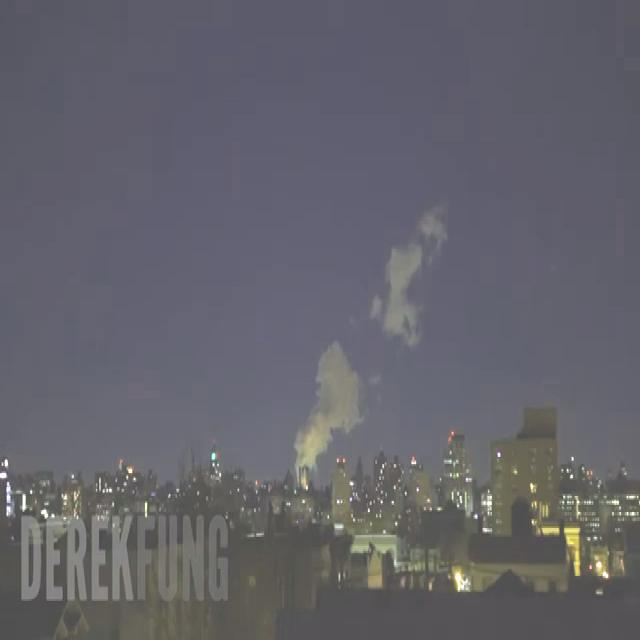smoke: (295, 341, 368, 473), (383, 217, 446, 341)
